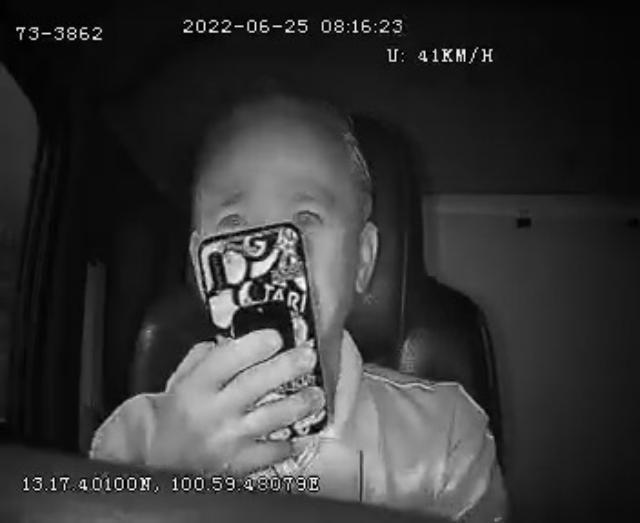PhoneUse: (195, 223, 328, 441)
SafeDriving: (289, 194, 329, 238), (214, 204, 249, 233)
